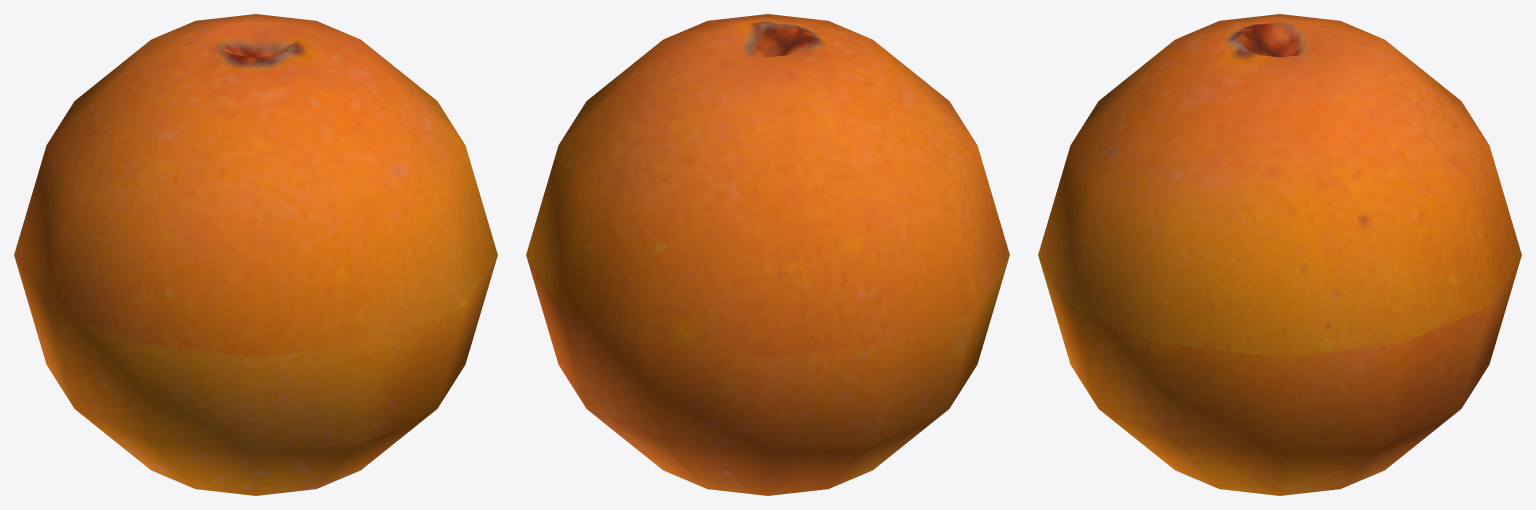
Rendered from Orange.FBX.
3 views of the same model, side by side, from view 1: azimuth 30°, elevation 25°; view 2: azimuth 150°, elevation 25°; view 3: azimuth 270°, elevation 25° (orthographic).
Visible parts, largest first — view 1: Orange; view 2: Orange; view 3: Orange.
Part boxes in pixels (x1,y1,x2,y2): Orange: (14, 14, 497, 495); Orange: (526, 14, 1009, 495); Orange: (1038, 14, 1521, 495).
Bounding box in the file's own units: 4.1 × 4.02 × 4.1.
